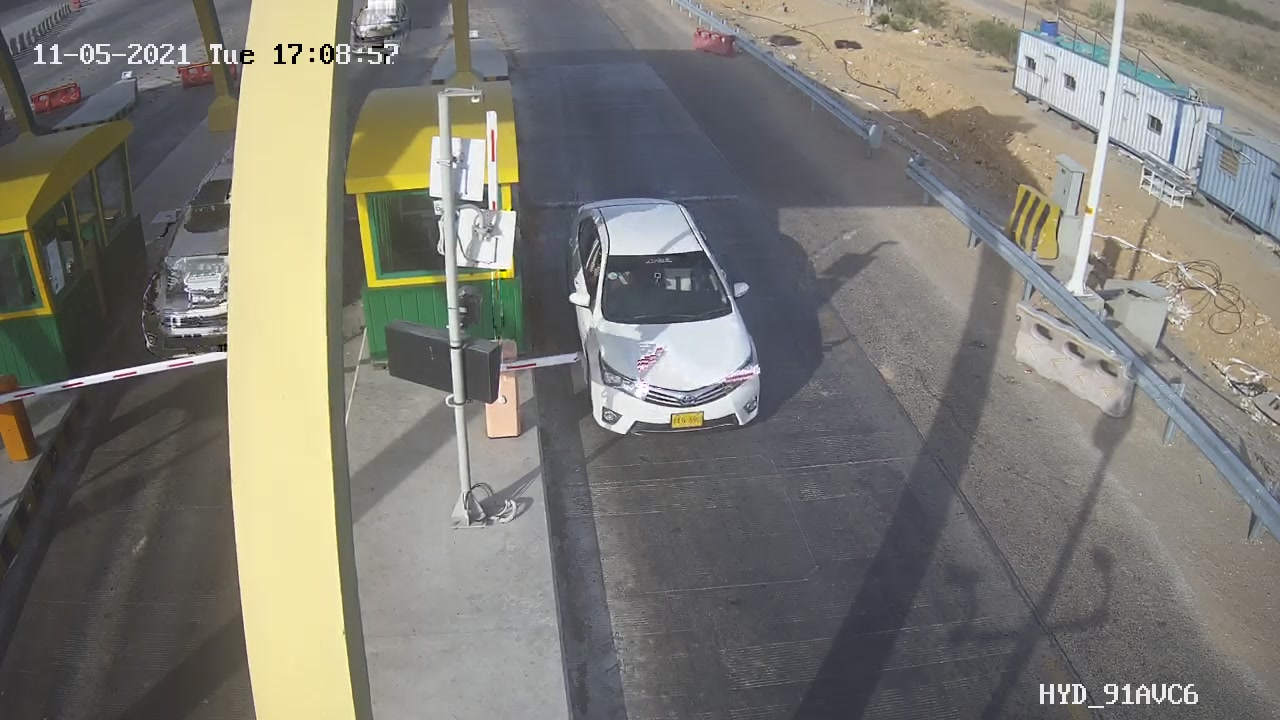F1: (543, 177, 781, 455)
